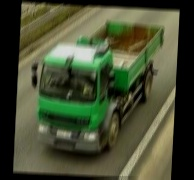truck: (27, 18, 165, 159)
